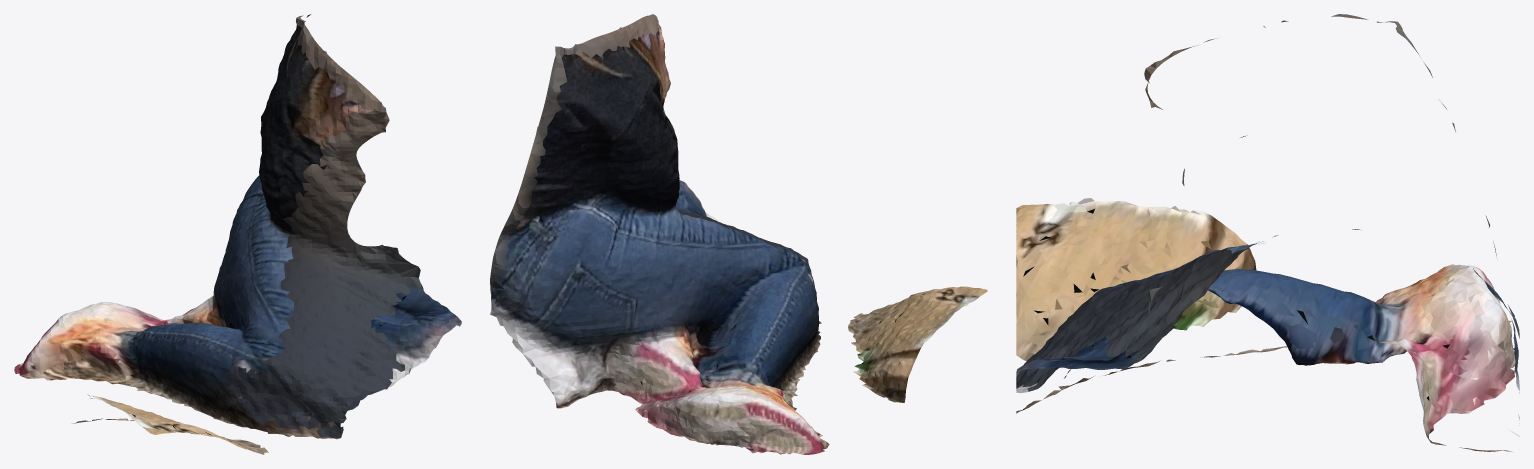
The picture shows the model from 3 angles, left to right: view 1: azimuth 30°, elevation 25°; view 2: azimuth 150°, elevation 25°; view 3: azimuth 270°, elevation 25°; orthographic projection. The views are drawn at different scales.
Bounding box in the file's own units: 0.5877 × 0.5567 × 0.5594.
Materials: 1 (1 with a texture image).
